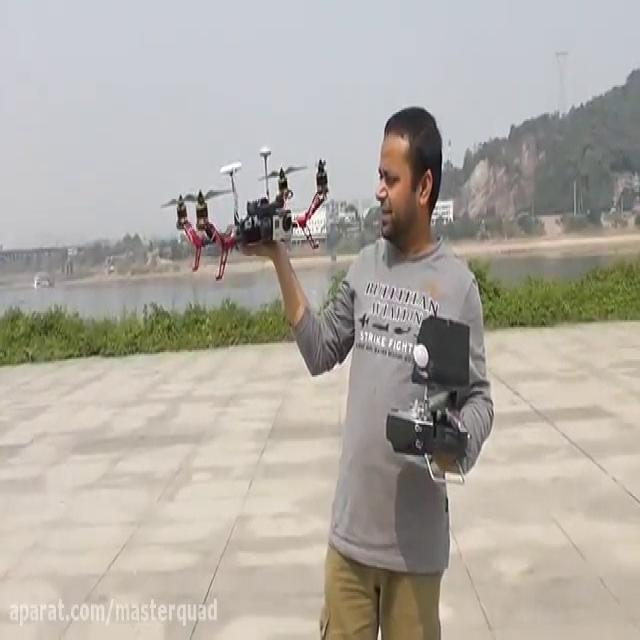drone: (151, 137, 336, 283)
